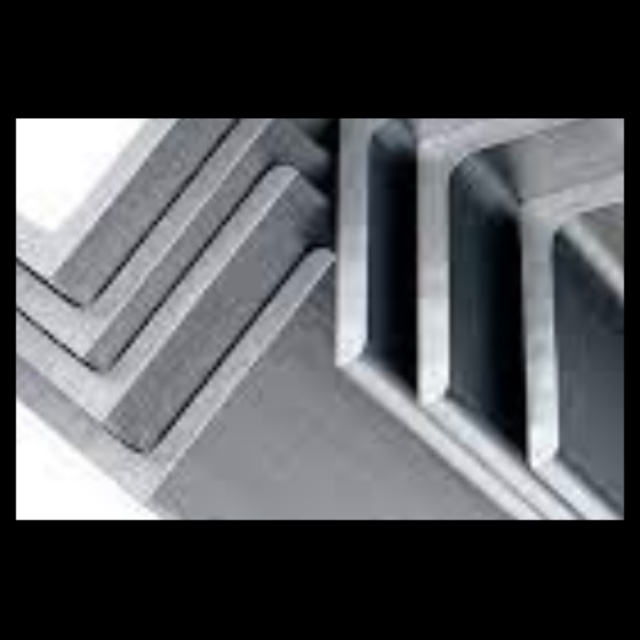Angle: (16, 259, 315, 469), (345, 118, 615, 348), (16, 183, 277, 394), (426, 118, 624, 396), (16, 118, 265, 318), (16, 118, 232, 255), (540, 136, 624, 443)
